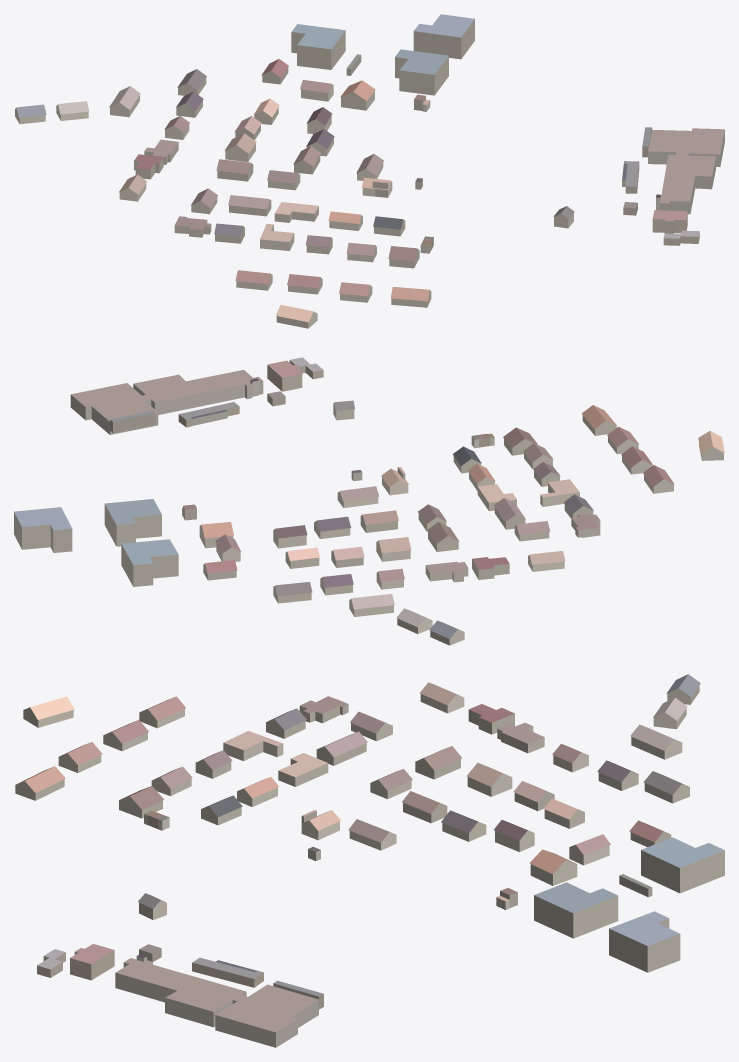
3 views of the same model, one above another, from view 1: azimuth 30°, elevation 25°; view 2: azimuth 150°, elevation 25°; view 3: azimuth 270°, elevation 25° (orthographic). The views are drawn at different scales.
Parts seen in each view (by area): view 1: tuile; view 2: tuile; view 3: tuile.
Boxes of the visible parts, left/top/right/bottom form: tuile: left=15, top=14, right=724, bottom=328; tuile: left=14, top=357, right=724, bottom=645; tuile: left=15, top=674, right=724, bottom=1047.
Size of the model in its own units: 282 by 21.4 by 262.
